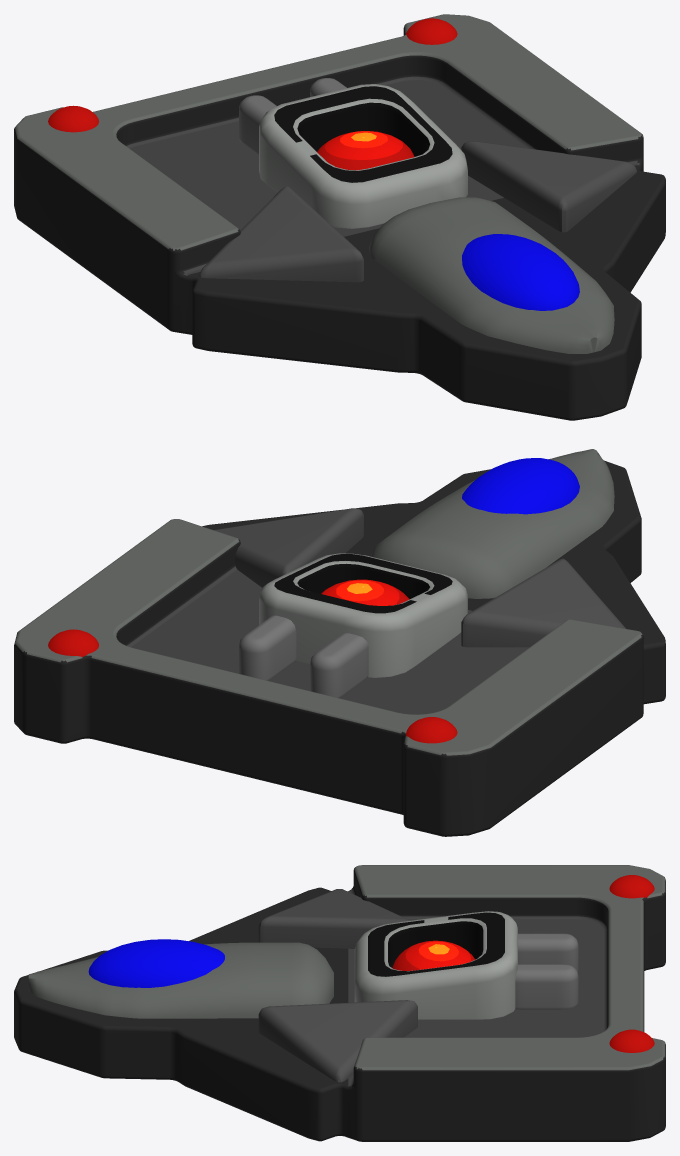
The model's file is hatch_ship_131.glb.
The picture shows the model from 3 angles, top to bottom: view 1: azimuth 30°, elevation 25°; view 2: azimuth 150°, elevation 25°; view 3: azimuth 270°, elevation 25°; orthographic projection. The views are drawn at different scales.
Visible parts, largest first — view 1: hull, hood, keel, plate-1, plate1, canopy, eye, prong0, lamp1, lamp0; view 2: hull, keel, hood, plate-1, plate1, canopy, prong0, prong1, eye, lamp1, lamp0; view 3: hull, keel, hood, plate1, plate-1, canopy, prong1, prong0, eye, lamp0, lamp1.
Part boxes in pixels (<box>): hull: <box>14,14,665,420</box>; hood: <box>259,84,467,228</box>; keel: <box>369,197,614,353</box>; plate-1: <box>199,186,363,282</box>; plate1: <box>461,141,636,232</box>; canopy: <box>462,234,579,310</box>; eye: <box>317,131,414,170</box>; prong0: <box>239,95,276,155</box>; lamp1: <box>406,18,457,44</box>; lamp0: <box>48,105,98,132</box>; hull: <box>14,460,665,836</box>; keel: <box>371,449,614,598</box>; hood: <box>259,553,467,677</box>; plate-1: <box>461,558,625,647</box>; plate1: <box>213,508,363,587</box>; canopy: <box>462,458,579,514</box>; prong0: <box>310,633,368,698</box>; prong1: <box>239,615,296,680</box>; eye: <box>321,579,409,605</box>; lamp1: <box>48,629,98,656</box>; lamp0: <box>406,717,457,743</box>; hull: <box>14,865,665,1141</box>; keel: <box>28,942,333,1018</box>; hood: <box>354,911,517,1019</box>; plate1: <box>258,1000,417,1082</box>; plate-1: <box>258,889,409,948</box>; canopy: <box>88,939,224,987</box>; prong1: <box>515,964,578,1009</box>; prong0: <box>518,933,578,972</box>; eye: <box>392,940,474,970</box>; lamp0: <box>609,875,654,898</box>; lamp1: <box>609,1029,654,1052</box>.
Size of the model in its own units: 20 by 4.77 by 26.9.
